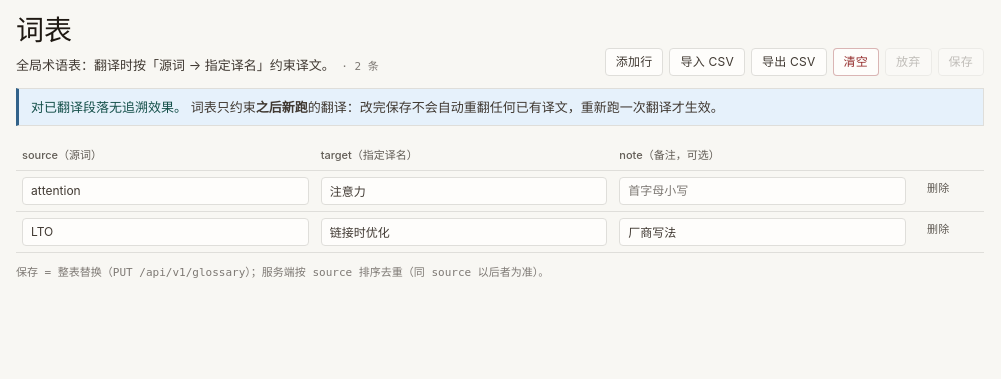
Test: GlossaryScreen（全局词表） › 添加行 → 编辑 → 保存：发整表 PUT，成功后回落到服务端那一份
This screenshot has width=1001, height=379.
expect the table is shown: met, box x1=16 y1=142 x2=984 y2=253
expect the button "保存" is disabled: met, box x1=938 y1=48 x2=984 y2=76
Click the button "添加行": (634, 62) x1=605 y1=48 x2=663 y2=76
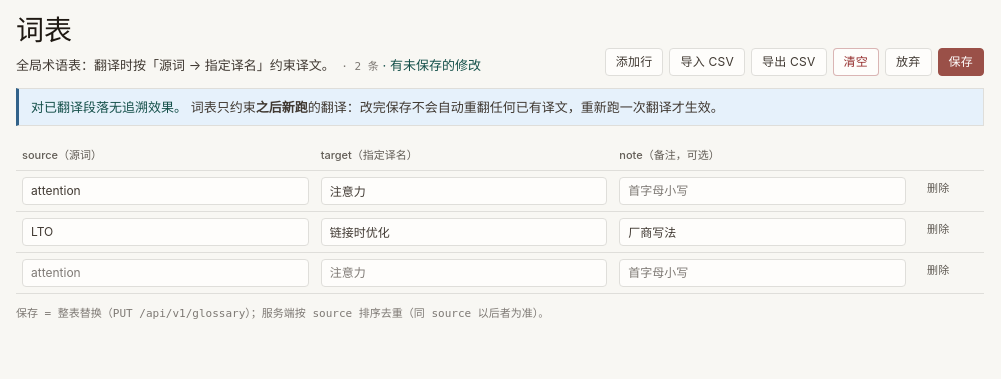
In the field with placeholder "attention": (165, 273) x1=22 y1=259 x2=309 y2=287, type "beam search"
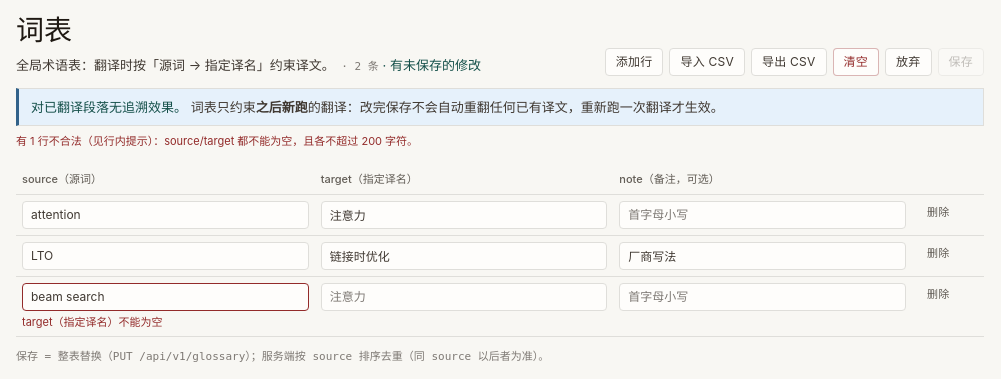
In the field with placeholder "注意力": (464, 296) x1=321 y1=282 x2=607 y2=310, type "束搜索"
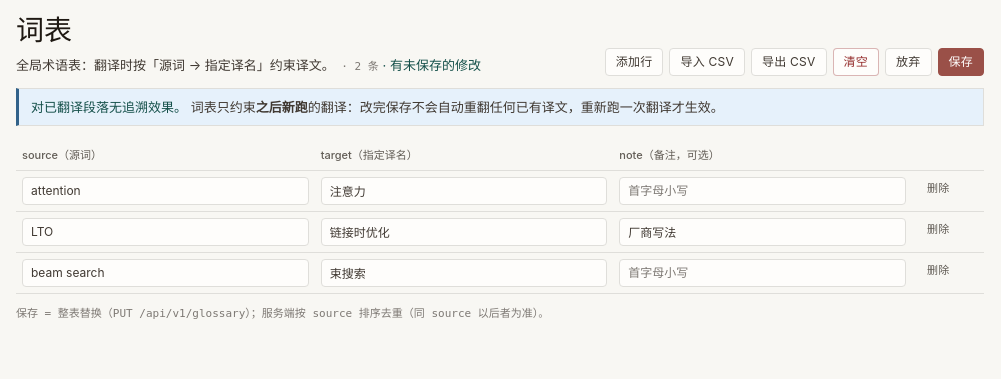
expect the text "· 有未保存的修改" is shown: met, box x1=379 y1=57 x2=481 y2=73
Click the button "保存": (961, 62) x1=938 y1=48 x2=984 y2=76
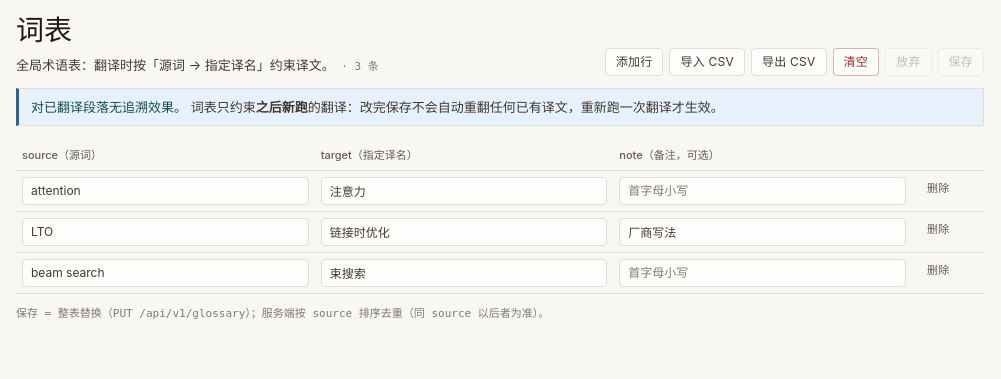
expect the text "有未保存的修改" is gone: met
expect the button "保存" is disabled: met, box x1=938 y1=48 x2=984 y2=76
